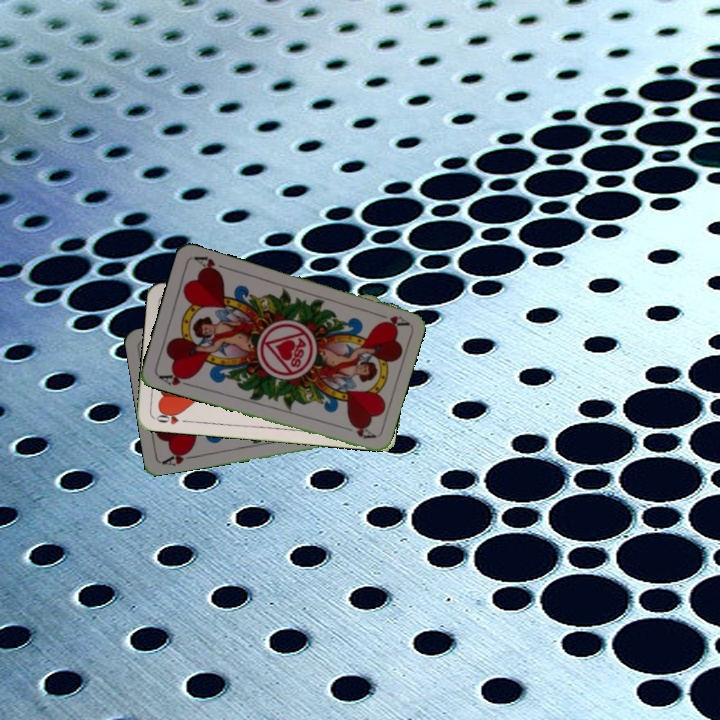HA: (158, 446, 199, 468), (155, 368, 194, 389), (370, 309, 410, 329)
HO: (151, 407, 192, 427)
